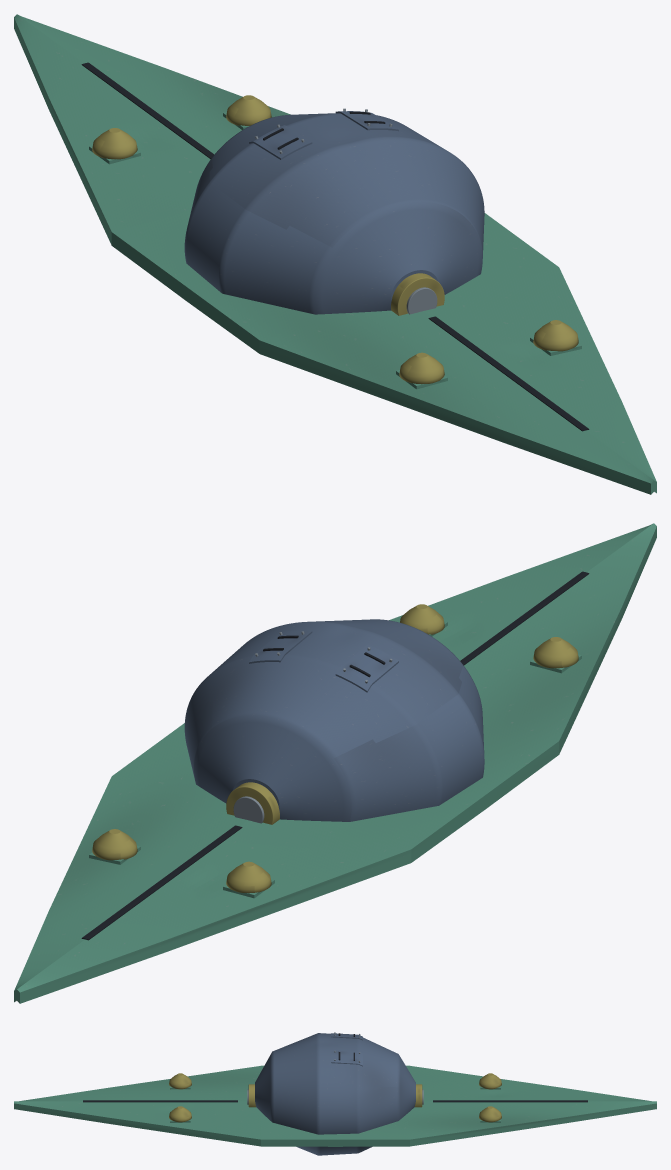
3 views of the same model, one above another, from view 1: azimuth 30°, elevation 25°; view 2: azimuth 150°, elevation 25°; view 3: azimuth 270°, elevation 25° (orthographic). The views are drawn at different scales.
Parts seen in each view (by area): view 1: Falari-Lourn continuous green wing, Falari-Lourn blue pressure hull, Falari-Lourn wing inset -1, Falari-Lourn body bezel -1, Falari-Lourn gold wing fixture 2, Falari-Lourn gold wing fixture 0, Falari-Lourn gold wing fixture 1, Falari-Lourn hull service cover 0, Falari-Lourn wing inset 1, Falari-Lourn gold wing fixture 3; view 2: Falari-Lourn continuous green wing, Falari-Lourn blue pressure hull, Falari-Lourn hull service cover 0, Falari-Lourn wing inset 1, Falari-Lourn body bezel 1, Falari-Lourn gold wing fixture 2, Falari-Lourn gold wing fixture 0, Falari-Lourn gold wing fixture 3, Falari-Lourn wing inset -1, Falari-Lourn hull service cover 1, Falari-Lourn gold wing fixture 1; view 3: Falari-Lourn continuous green wing, Falari-Lourn blue pressure hull, Falari-Lourn wing inset -1, Falari-Lourn wing inset 1, Falari-Lourn hull service cover 1, Falari-Lourn gold wing fixture 1, Falari-Lourn gold wing fixture 3, Falari-Lourn gold wing fixture 0, Falari-Lourn gold wing fixture 2.
Boxes of the visible parts, x1,y1,x2,y2 form: Falari-Lourn continuous green wing: (14,14,656,494); Falari-Lourn blue pressure hull: (184,113,484,314); Falari-Lourn wing inset -1: (428,316,589,431); Falari-Lourn body bezel -1: (391,273,444,315); Falari-Lourn gold wing fixture 2: (92,128,137,159); Falari-Lourn gold wing fixture 0: (399,352,444,384); Falari-Lourn gold wing fixture 1: (533,320,578,351); Falari-Lourn hull service cover 0: (249,125,312,159); Falari-Lourn wing inset 1: (81,62,214,159); Falari-Lourn gold wing fixture 3: (226,95,271,125); Falari-Lourn continuous green wing: (14,523,656,1003); Falari-Lourn blue pressure hull: (184,619,484,821); Falari-Lourn hull service cover 0: (335,644,398,692); Falari-Lourn wing inset 1: (81,825,242,940); Falari-Lourn body bezel 1: (226,782,279,824); Falari-Lourn gold wing fixture 2: (226,861,271,893); Falari-Lourn gold wing fixture 0: (533,637,578,668); Falari-Lourn gold wing fixture 3: (92,829,137,860); Falari-Lourn wing inset -1: (460,571,589,665); Falari-Lourn hull service cover 1: (249,630,312,663); Falari-Lourn gold wing fixture 1: (400,604,444,634); Falari-Lourn continuous green wing: (14,1065,656,1146); Falari-Lourn blue pressure hull: (255,1033,415,1155); Falari-Lourn wing inset -1: (83,1100,237,1102); Falari-Lourn wing inset 1: (433,1100,587,1102); Falari-Lourn hull service cover 1: (331,1050,362,1066); Falari-Lourn gold wing fixture 1: (169,1106,191,1122); Falari-Lourn gold wing fixture 3: (479,1106,501,1122); Falari-Lourn gold wing fixture 0: (169,1073,191,1089); Falari-Lourn gold wing fixture 2: (479,1073,501,1089).
Size of the model in its own units: 1.52 by 0.9957 by 5.6.
Materials: 5 (3 with a texture image).
